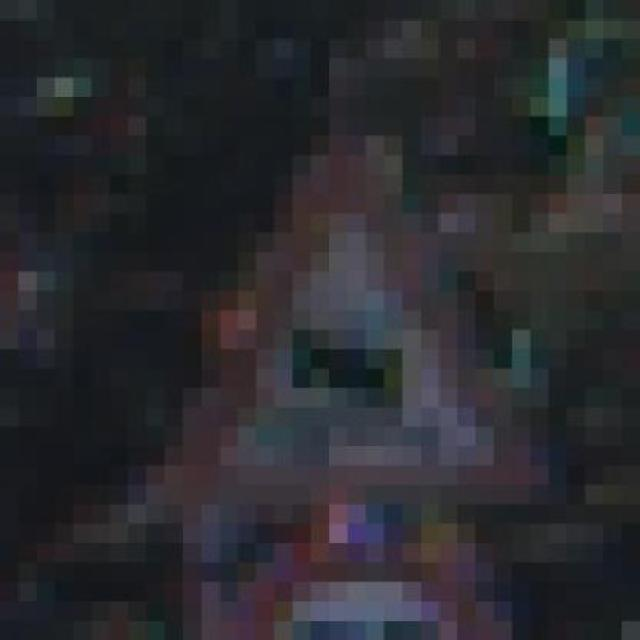Slippery Road Ahead: (182, 155, 548, 562)
